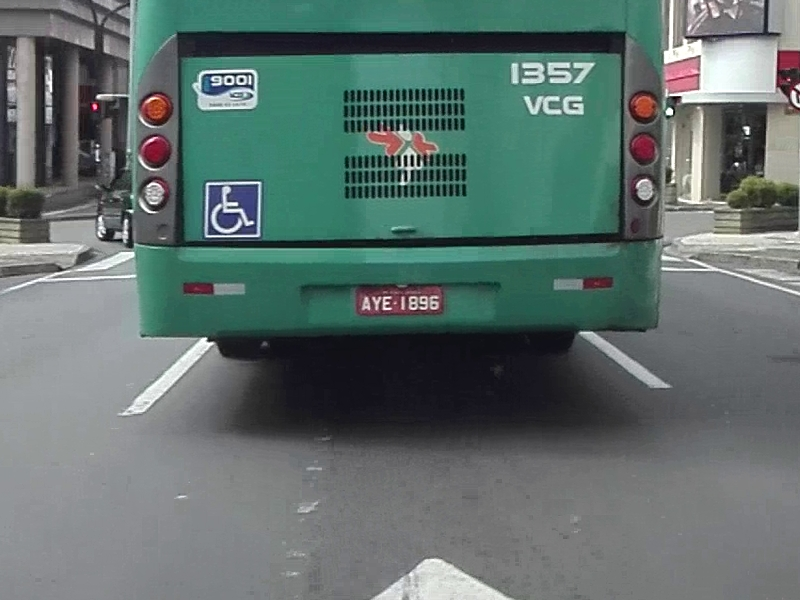placa: (356, 285, 444, 316)
